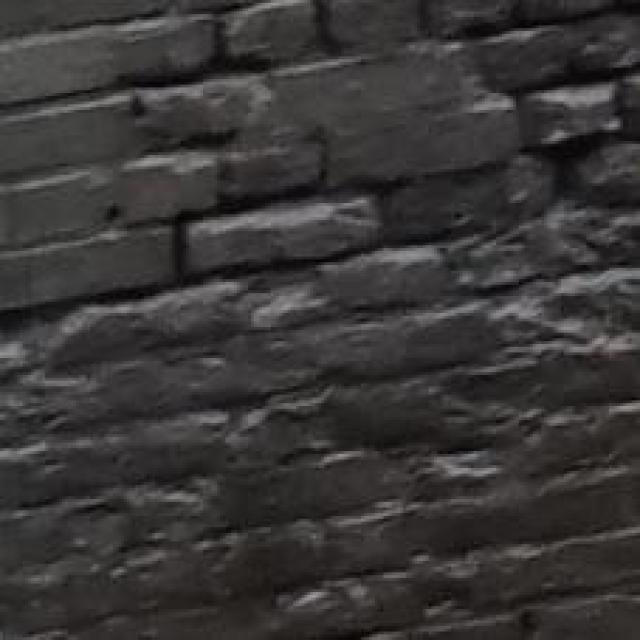Crack: (55, 0, 640, 423)
